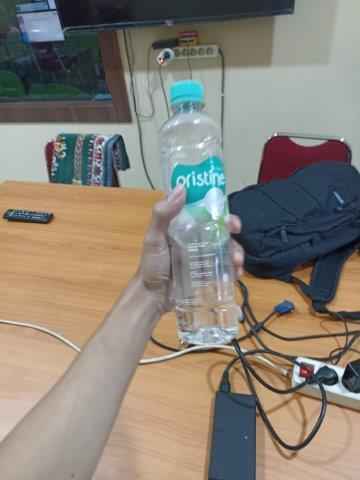botolplastik: (157, 79, 237, 346)
